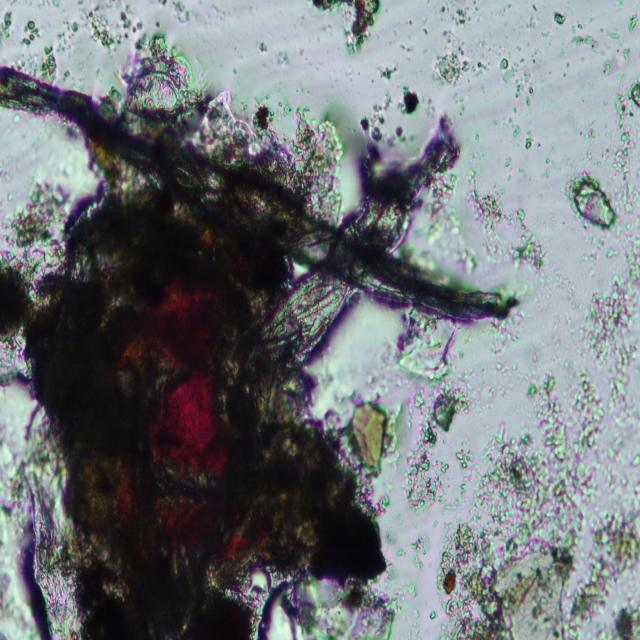Background material: (431, 370, 640, 635), (263, 409, 392, 637), (82, 562, 260, 638), (0, 186, 70, 324), (464, 172, 544, 269), (400, 388, 471, 496), (583, 257, 640, 364), (404, 306, 456, 382), (344, 398, 392, 477), (565, 170, 620, 232), (86, 0, 145, 53), (312, 2, 382, 46), (611, 124, 640, 224), (497, 54, 548, 108), (535, 268, 579, 308), (439, 3, 483, 42), (240, 91, 280, 131), (365, 87, 395, 139), (490, 320, 518, 374), (609, 78, 640, 120), (34, 45, 68, 77), (573, 23, 599, 61), (50, 15, 81, 44), (438, 52, 464, 85), (393, 578, 417, 613), (407, 534, 431, 569), (404, 489, 432, 517), (624, 233, 640, 278), (165, 0, 195, 23), (400, 85, 420, 119), (464, 57, 488, 82), (377, 57, 397, 86), (578, 119, 594, 155), (581, 149, 605, 172), (22, 22, 42, 46), (408, 611, 424, 640), (584, 235, 601, 262), (422, 94, 441, 118), (453, 90, 467, 117), (603, 246, 623, 264), (523, 130, 539, 150), (626, 15, 640, 36), (471, 146, 485, 165), (540, 28, 554, 47), (555, 9, 568, 29), (509, 120, 523, 138), (253, 41, 267, 58), (619, 46, 633, 61), (602, 61, 614, 76), (402, 44, 415, 57), (427, 608, 439, 621), (526, 16, 538, 28), (531, 46, 539, 63), (562, 63, 571, 78), (396, 546, 405, 560), (549, 140, 559, 152), (529, 352, 539, 364), (500, 5, 510, 16), (432, 516, 440, 529), (506, 156, 512, 171), (395, 514, 403, 524), (531, 1, 539, 11), (546, 153, 552, 166), (610, 33, 618, 42), (474, 134, 481, 141), (423, 29, 430, 35), (547, 169, 551, 177), (514, 107, 518, 113)
Cellulose filter fibre: (0, 63, 516, 328), (237, 119, 459, 408), (26, 402, 89, 639)
Fragment: (42, 206, 282, 562)
